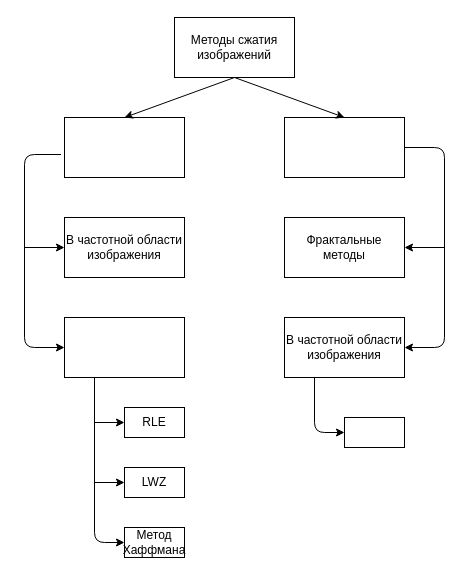
This 470x575 diagram has some shape labels left out. Each missing label, with the centre of its shape:
"JPEG" goes at (x=374, y=432).
"Без потери качества изображения" goes at (x=124, y=147).
"В пространственной области изображения" goes at (x=124, y=347).
"С потерей качества изображения" goes at (x=344, y=147).
